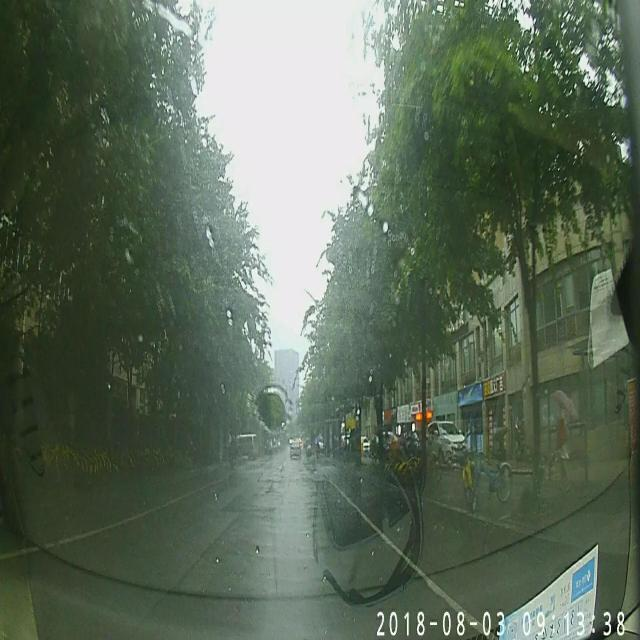car: (422, 414, 467, 461), (234, 432, 258, 458), (286, 436, 302, 458)
